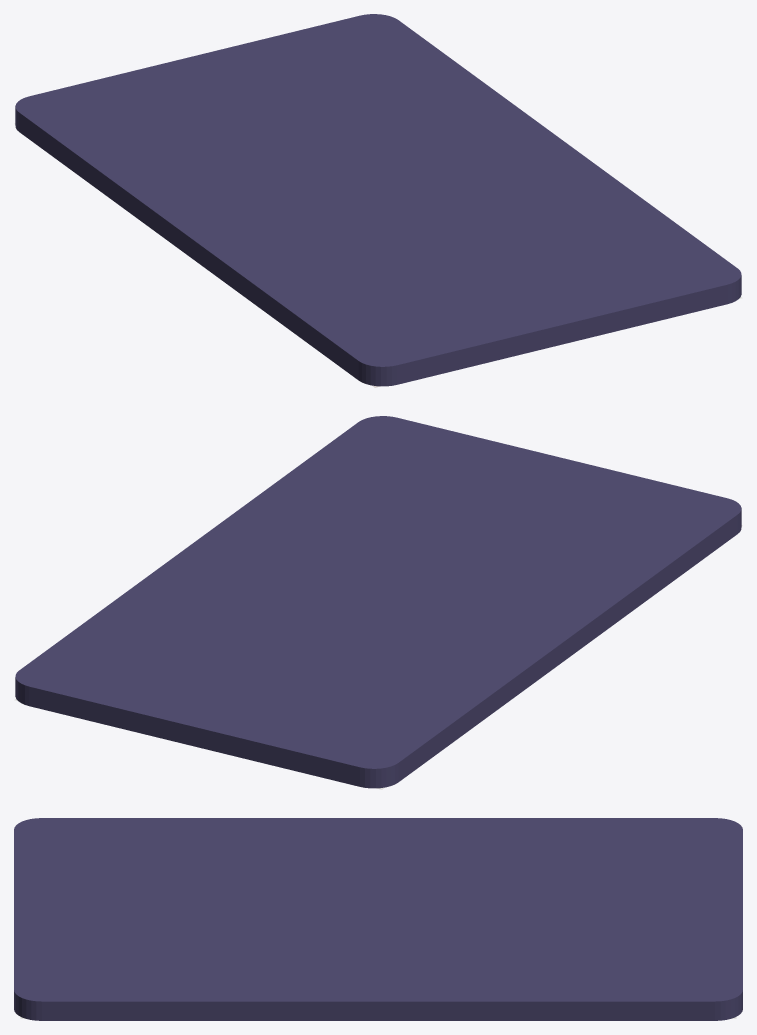
The model's file is tarot_card_sample_major_00_fool.glb.
3 views of the same model, one above another, from view 1: azimuth 30°, elevation 25°; view 2: azimuth 150°, elevation 25°; view 3: azimuth 270°, elevation 25° (orthographic).
Visible parts, largest first — view 1: tarot_card_major_00_the_fool_textured; view 2: tarot_card_major_00_the_fool_textured; view 3: tarot_card_major_00_the_fool_textured.
Part boxes in pixels (x1,y1,x2,y2): tarot_card_major_00_the_fool_textured: (14,14,742,387); tarot_card_major_00_the_fool_textured: (14,416,742,789); tarot_card_major_00_the_fool_textured: (14,818,742,1020).
Bounding box in the file's own units: 0.405 × 0.0208 × 0.68.
2 materials, 1 textured.
